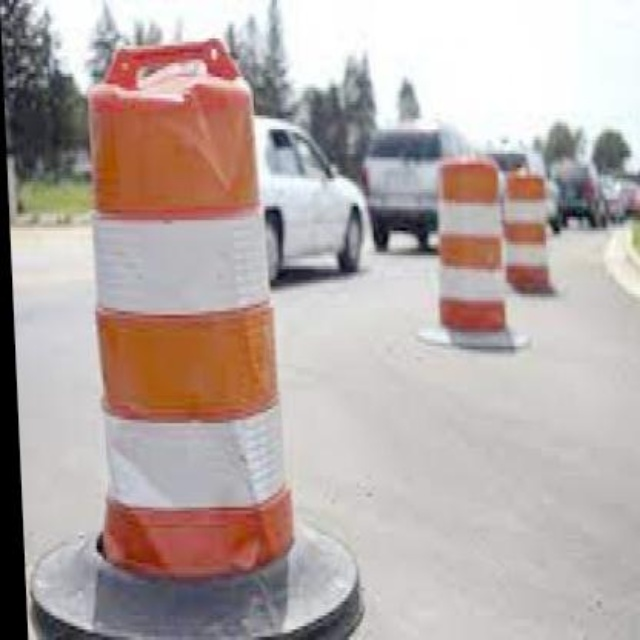obstacle: (76, 52, 304, 580)
